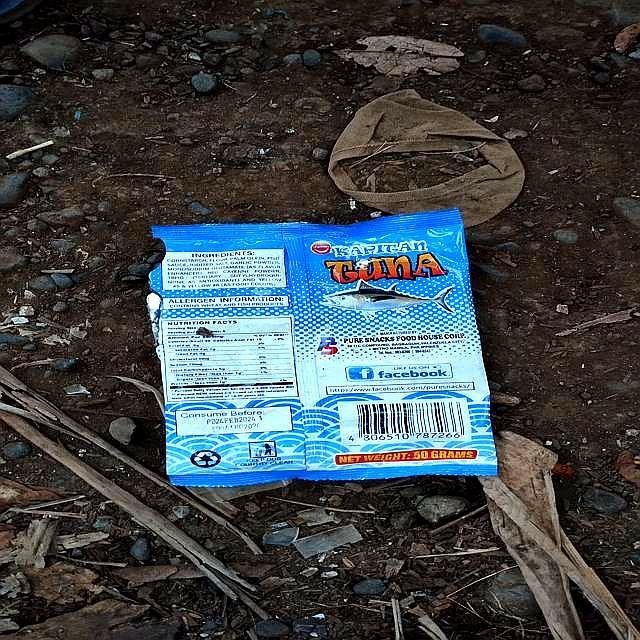Non-biodegradable: (147, 207, 500, 489)
